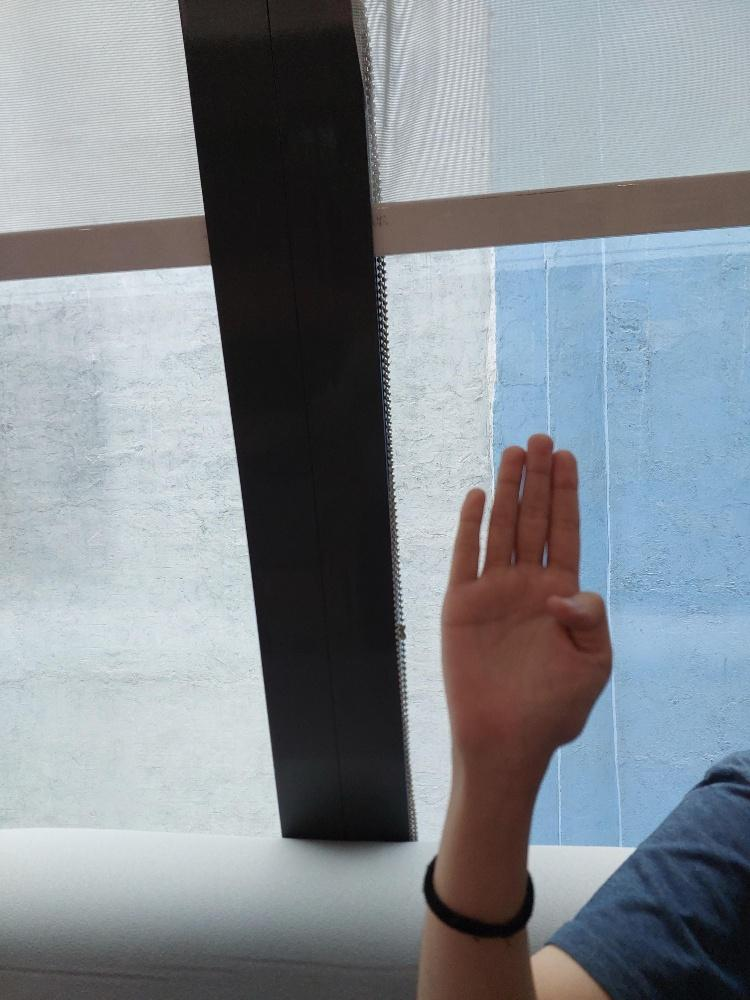b: (439, 432, 611, 747)
